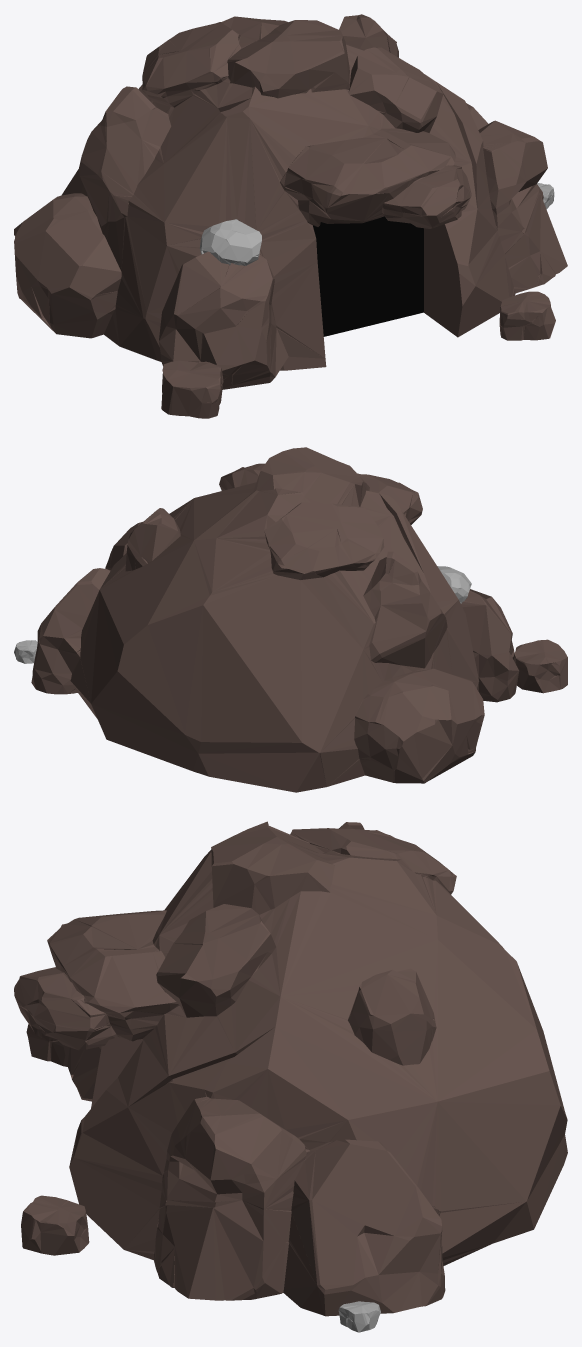
File: Mine.fbx
3 renders of one model, top to bottom at view 1: azimuth 30°, elevation 25°; view 2: azimuth 150°, elevation 25°; view 3: azimuth 270°, elevation 25°, orthographic. The views are drawn at different scales.
Parts seen in each view (by area): view 1: Mine; view 2: Mine; view 3: Mine.
Boxes of the visible parts, x1=… form: Mine: x1=14, y1=14, x2=567, y2=418; Mine: x1=14, y1=447, x2=567, y2=792; Mine: x1=14, y1=821, x2=567, y2=1332.
Bounding box in the file's own units: 691 × 333 × 531.
